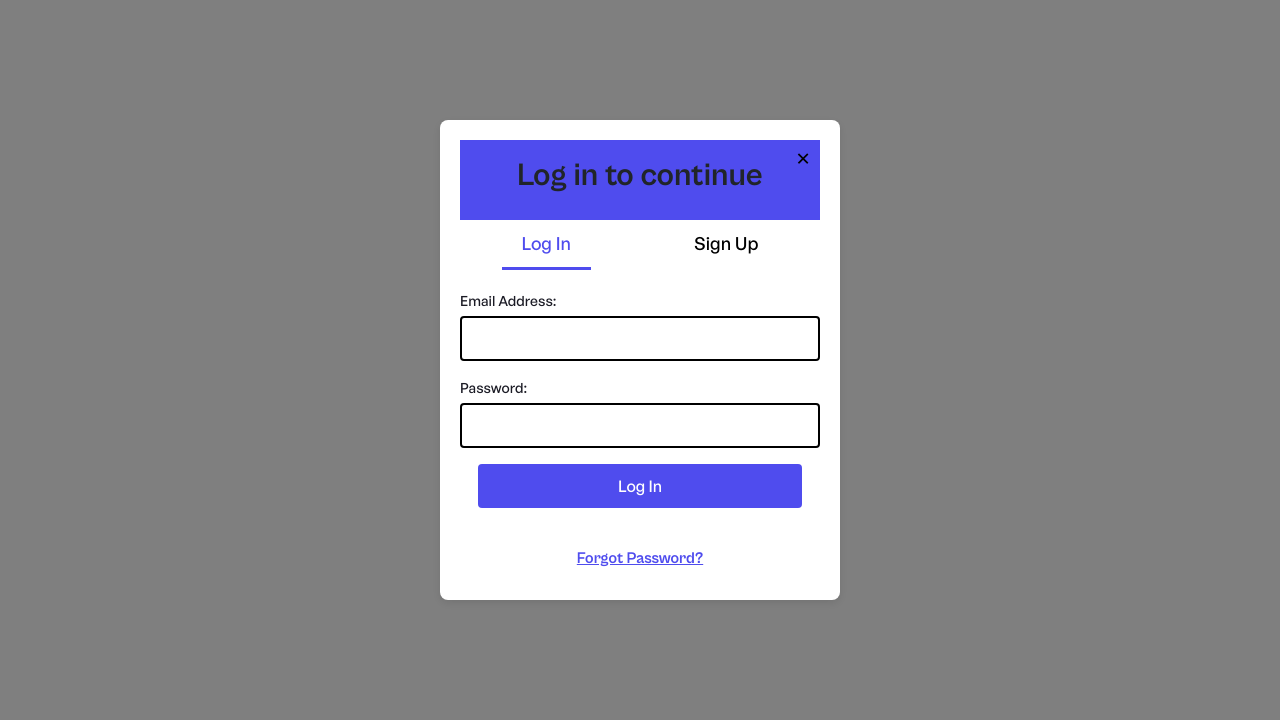
Test case: LoginModal Input Validation and Sanitization › should handle OTP login flow correctly
The image size is (1280, 720).
Step 1. Type "valid.email@example.com" into the field labelled "Email Address:" → (640, 338), box [460,316,820,361]
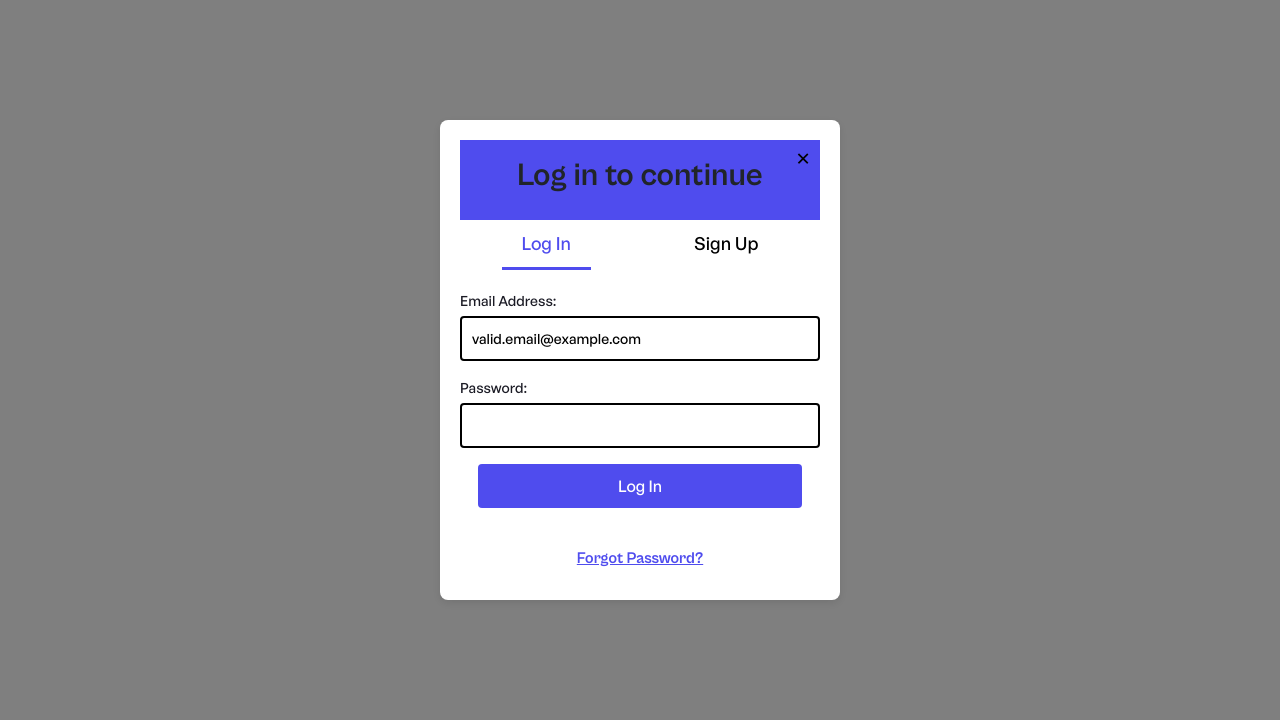
Step 2. Type "Valid@123" into the password field labelled "Password:" → (640, 426), box [460,403,820,448]
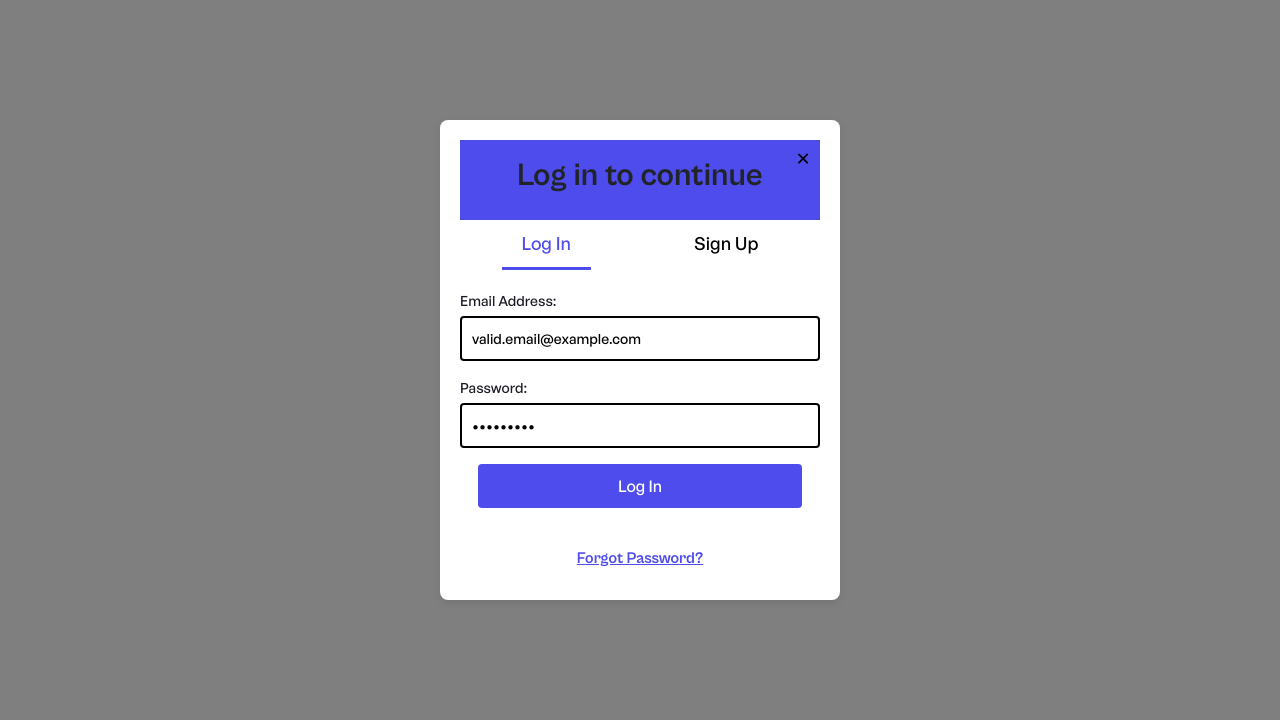
Step 3. Click the button "Log In" below "Password:" → (640, 486), box [478,464,802,508]
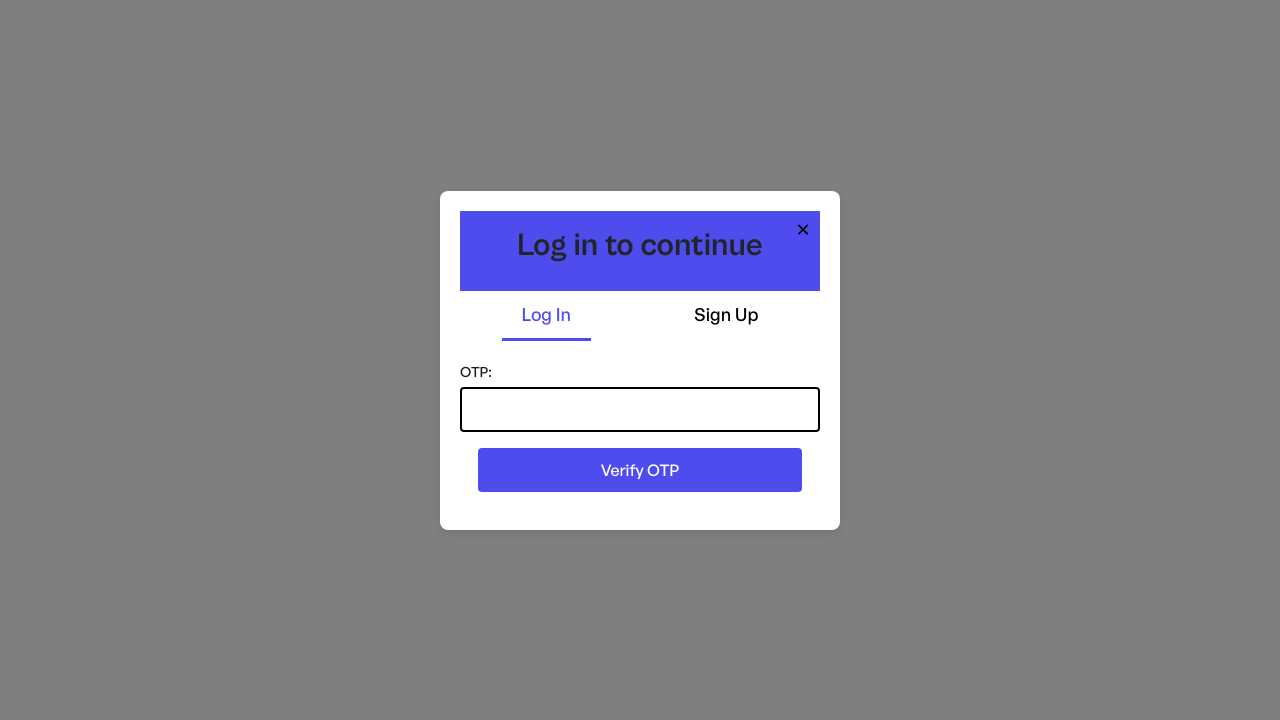
Now the field labelled "OTP:" is shown, box [460,386,820,432]
